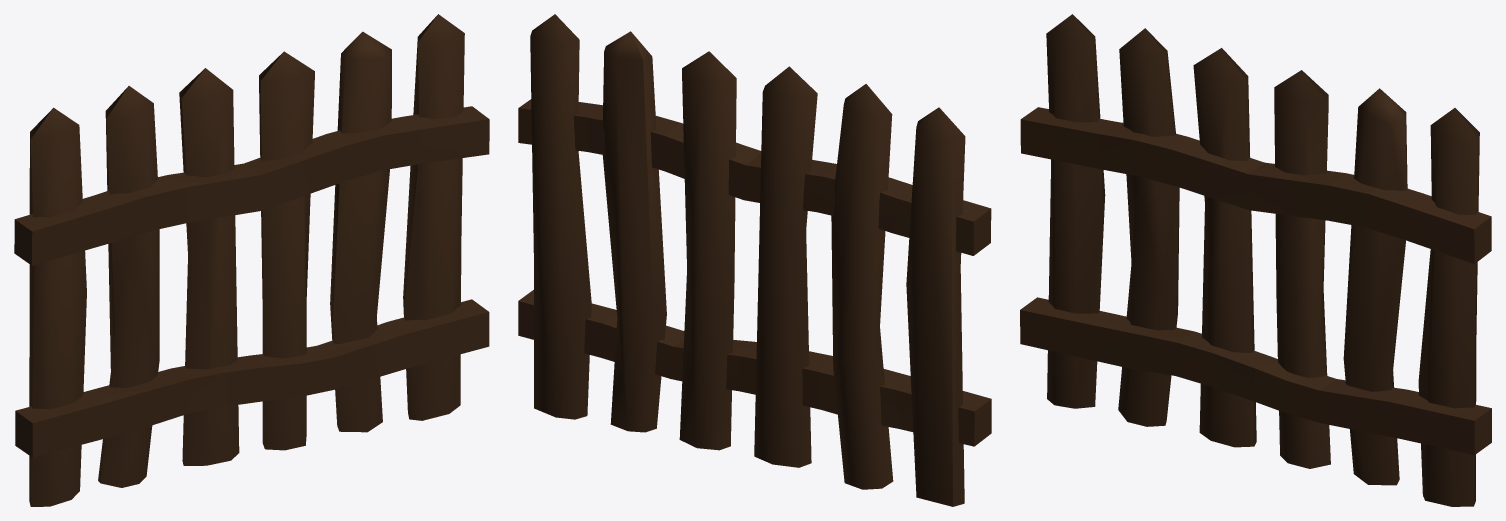
The model's file is mesh_fencing.fbx.
The picture shows the model from 3 angles, left to right: view 1: azimuth 30°, elevation 25°; view 2: azimuth 150°, elevation 25°; view 3: azimuth 330°, elevation 25°; orthographic projection.
Parts seen in each view (by area): view 1: Fencing; view 2: Fencing; view 3: Fencing.
Part boxes in pixels (x1,y1,x2,y2): Fencing: (14,14,489,506); Fencing: (518,14,991,506); Fencing: (1020,14,1491,506).
Bounding box in the file's own units: 199 × 167 × 19.78.
